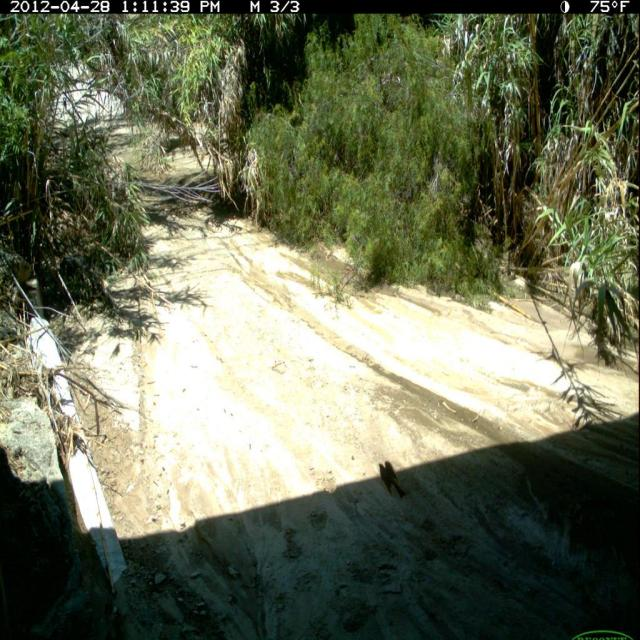bird: (378, 459, 407, 498)
